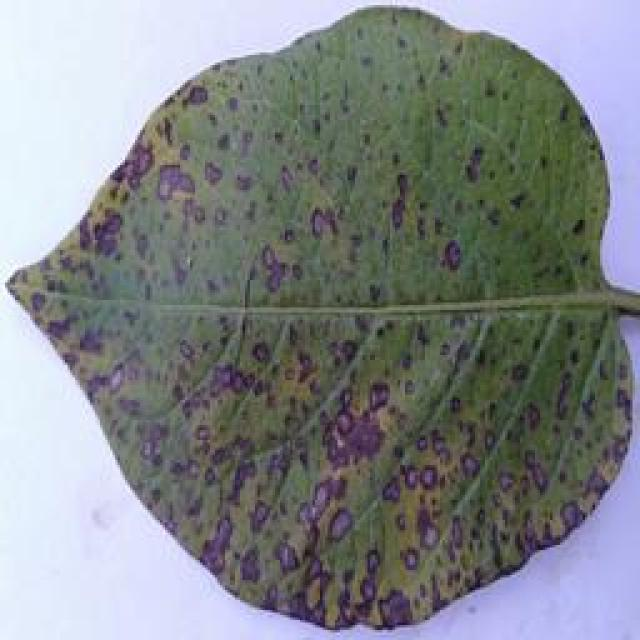Potato_Early_Blight: (3, 8, 634, 635)
